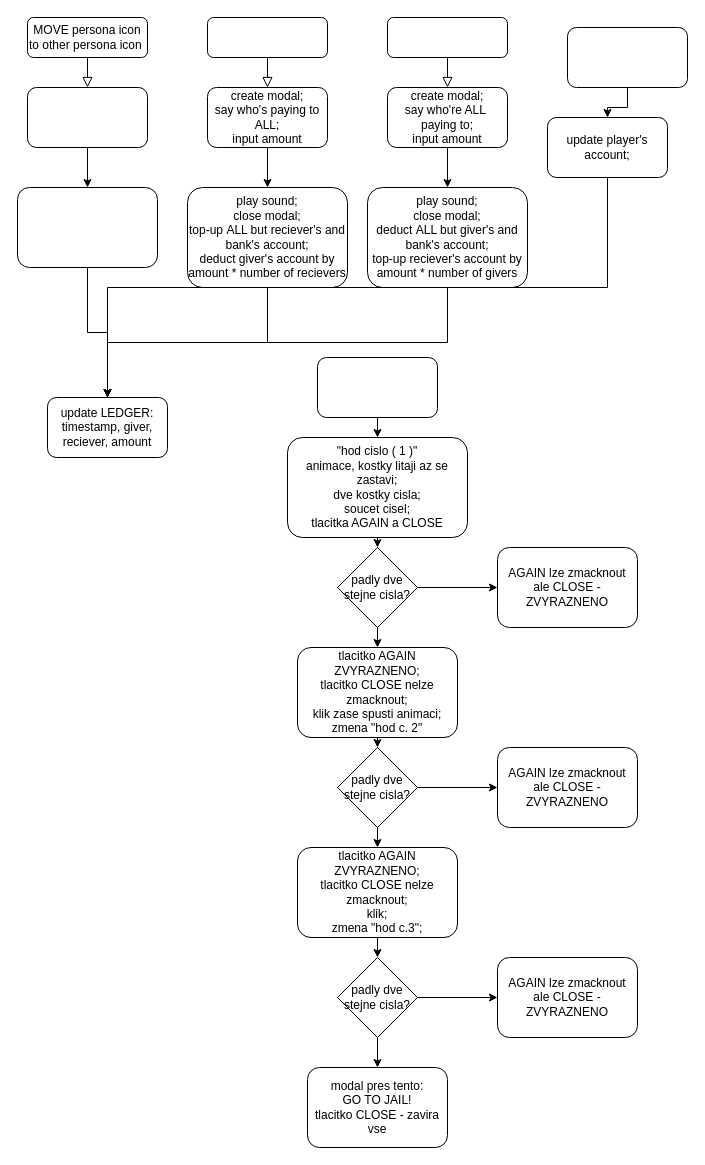
Image size: 705x1165. Some labels were removed from this diagram. The box of each missing label's shape, as (x1, y1, x2, y2) in pixels:
create modal; say who's paying to who; input amount: (26, 86, 148, 148)
HOD KOSTKOU: (316, 356, 438, 418)
MOVE - ALL icon to persona icon: (386, 16, 508, 58)
MOVE persona icon to ALL icon: (206, 16, 328, 58)
Pass GO button: (566, 26, 688, 88)
play sound; close modal; deduct giver's account; top-up reciever's account: (16, 186, 158, 268)
